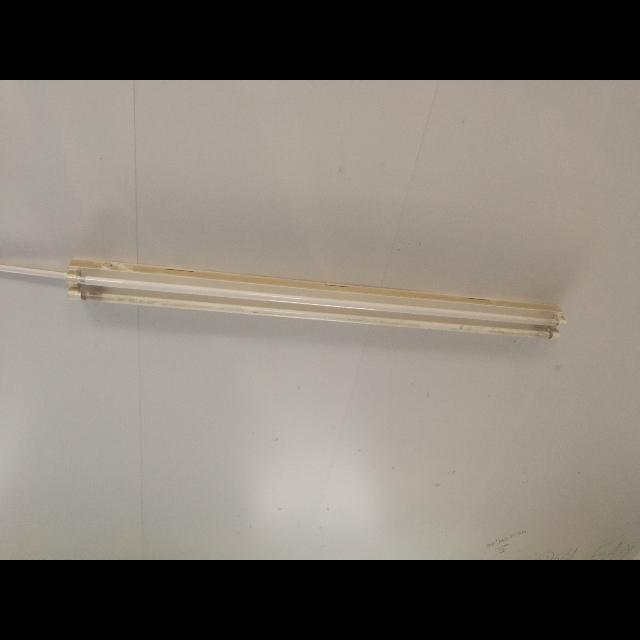Straight-Tube-Fluorescent-Lamp: (59, 253, 573, 349)
